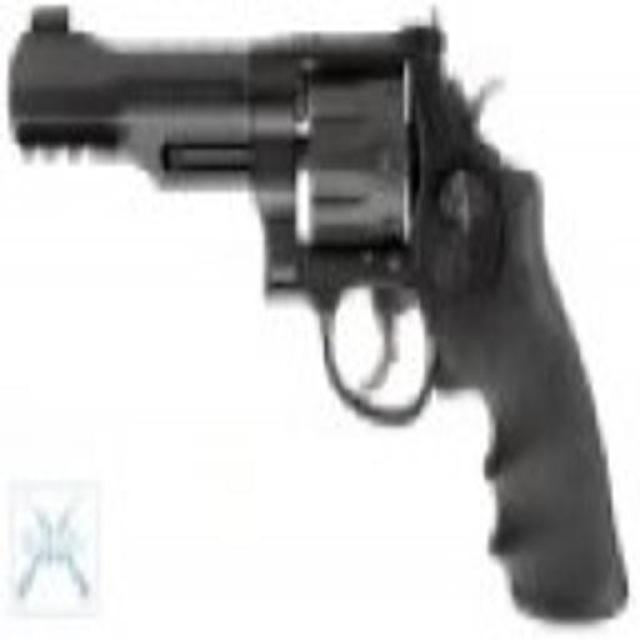pistol: (7, 5, 627, 612)
